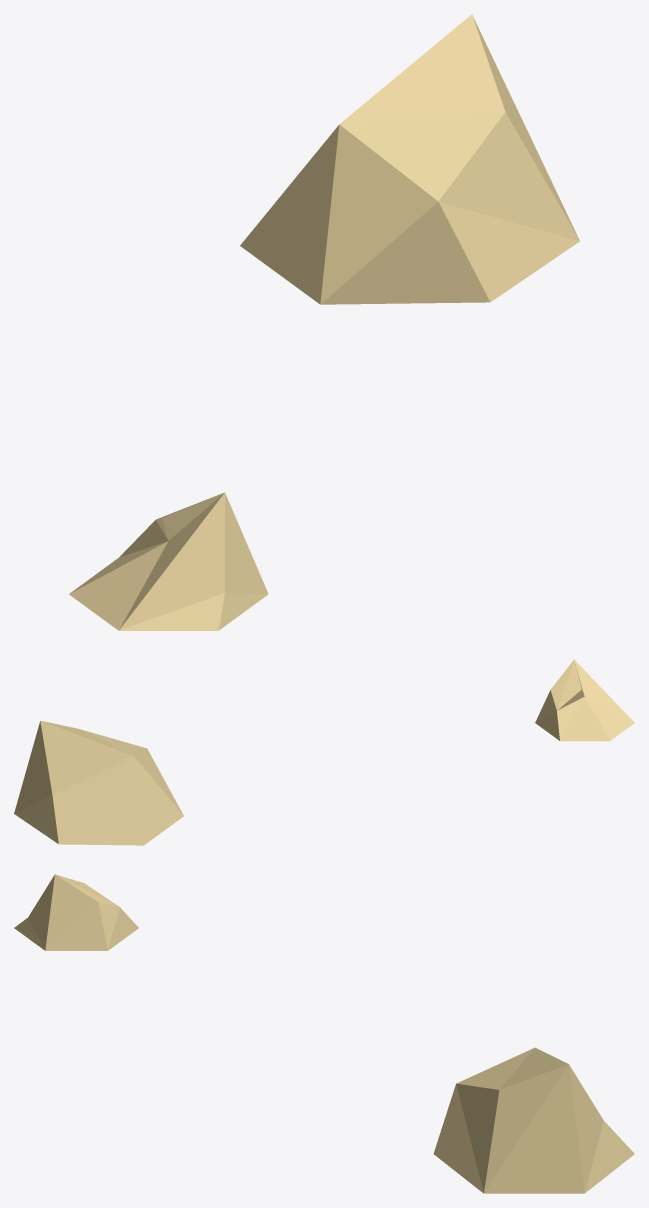
File: plane_grass_rock01OLD.FBX
3 views of the same model, one above another, from view 1: azimuth 30°, elevation 25°; view 2: azimuth 150°, elevation 25°; view 3: azimuth 270°, elevation 25° (orthographic). The views are drawn at different scales.
Visible parts, largest first — view 1: rock003; view 2: rock003; view 3: rock003.
Boxes of the visible parts, bbox=[...] form: rock003: bbox=[69, 14, 579, 630]; rock003: bbox=[14, 659, 634, 845]; rock003: bbox=[14, 874, 634, 1193].
Bounding box in the file's own units: 24.81 × 5.47 × 26.25.
